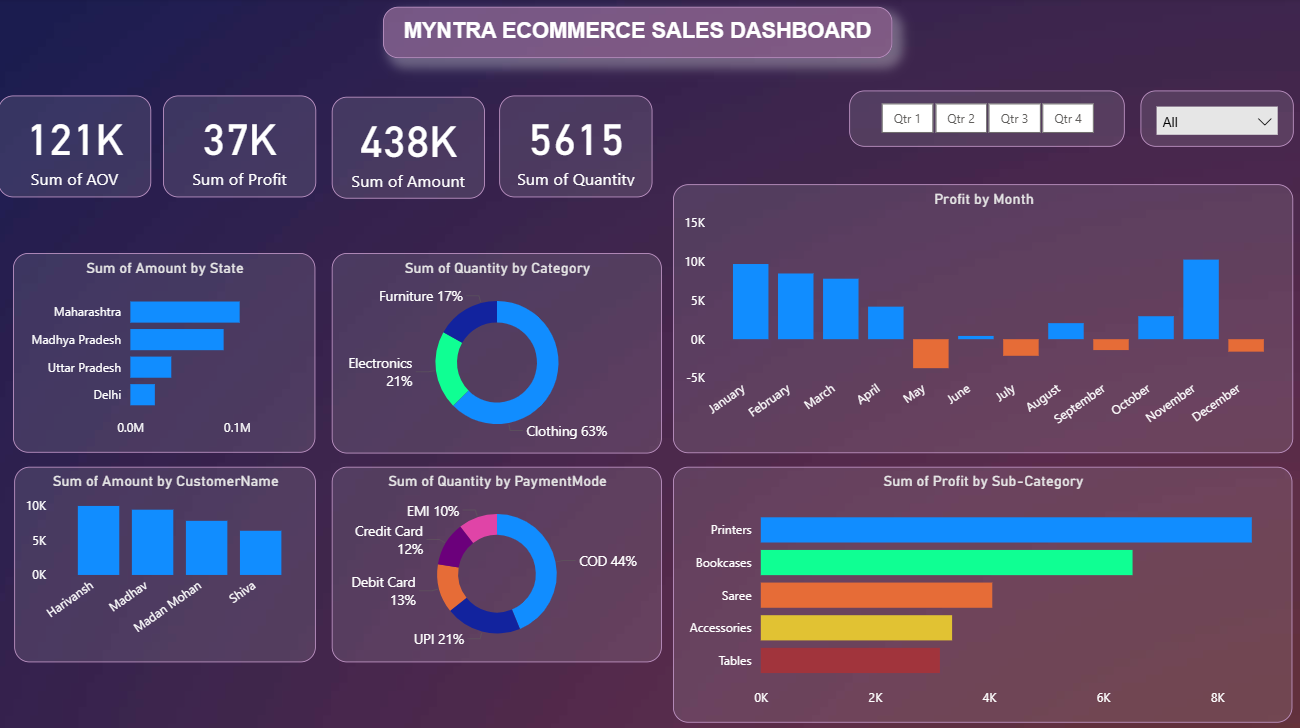

Layout of this report page (visuals, bound fields, positions):
{"tool":"powerbi","page":{"name":"Page 1","canvas":[1280,720],"ordinal":0},"visuals":[{"type":"textbox","box":[378.1,8.3,500,50],"z":0},{"type":"columnChart","title":"Profit by Month","fields":{"Category":["Orders.Order Date.Variation.Date Hierarchy.Month"],"Y":["Details.Profit"]},"box":[662,183,609,264],"z":1000},{"type":"barChart","fields":{"Category":["Details.Sub-Category"],"Y":["Details.Profit"]},"box":[663,460,608,251],"z":2000},{"type":"donutChart","fields":{"Category":["Details.Category"],"Y":["Details.Quantity"]},"box":[327,250,324,197],"z":3000},{"type":"donutChart","fields":{"Category":["Details.PaymentMode","Details.Category"],"Y":["Details.Quantity"]},"box":[327,460,324,192],"z":4000},{"type":"card","fields":{"Values":["Details.Amount"]},"box":[327,97,150,100],"z":5000},{"type":"card","fields":{"Values":["Details.AOV"]},"box":[0,96,150,100],"z":6000},{"type":"card","fields":{"Values":["Details.Profit"]},"box":[162,96,150,100],"z":7000},{"type":"card","fields":{"Values":["Details.Quantity"]},"box":[492,96,150,100],"z":8000},{"type":"barChart","fields":{"Y":["Details.Amount"],"Category":["Orders.State"]},"box":[15,250,297,196],"z":9000},{"type":"columnChart","fields":{"Category":["Orders.CustomerName"],"Y":["Details.Amount"]},"box":[16,460,296,192],"z":10000},{"type":"slicer","fields":{"Values":["Orders.Order Date.Variation.Date Hierarchy.Quarter"]},"box":[836,91,270,55],"z":11000},{"type":"slicer","fields":{"Values":["Orders.State"]},"box":[1121,91,150,55],"z":12000}]}

Visuals, with their boxes in screenshot pixels (x1, y1, x2, y2), scaled from the page's 1280x720 canvas onto the 1300x728 screenshot:
textbox: {"x1": 384, "y1": 8, "x2": 892, "y2": 59}
"Profit by Month" columnChart: {"x1": 672, "y1": 185, "x2": 1291, "y2": 452}
barChart - Details.Sub-Category x Details.Profit: {"x1": 673, "y1": 465, "x2": 1291, "y2": 719}
donutChart - Details.Category x Details.Quantity: {"x1": 332, "y1": 253, "x2": 661, "y2": 452}
donutChart - Details.PaymentMode x Details.Category: {"x1": 332, "y1": 465, "x2": 661, "y2": 659}
card - Details.Amount: {"x1": 332, "y1": 98, "x2": 484, "y2": 199}
card - Details.AOV: {"x1": 0, "y1": 97, "x2": 152, "y2": 198}
card - Details.Profit: {"x1": 165, "y1": 97, "x2": 317, "y2": 198}
card - Details.Quantity: {"x1": 500, "y1": 97, "x2": 652, "y2": 198}
barChart - Details.Amount x Orders.State: {"x1": 15, "y1": 253, "x2": 317, "y2": 451}
columnChart - Orders.CustomerName x Details.Amount: {"x1": 16, "y1": 465, "x2": 317, "y2": 659}
slicer - Orders.Order Date.Variation.Date Hierarchy.Quarter: {"x1": 849, "y1": 92, "x2": 1123, "y2": 148}
slicer - Orders.State: {"x1": 1139, "y1": 92, "x2": 1291, "y2": 148}
